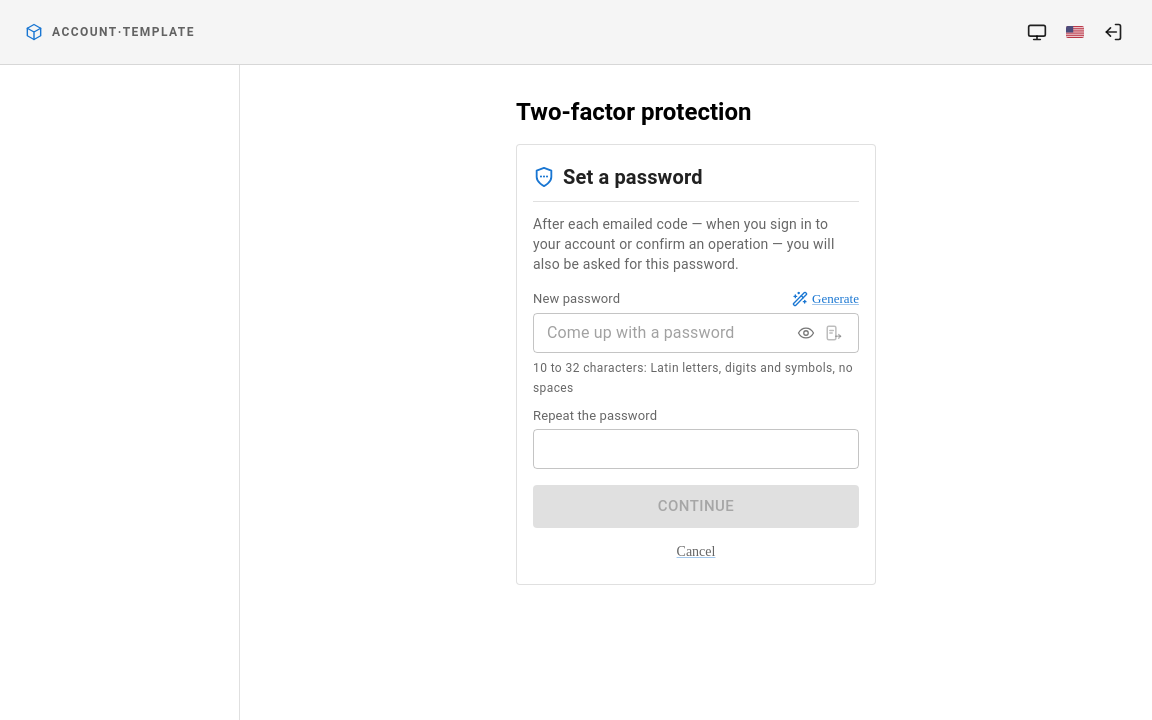
it: PasswordSetupPage › opens the gate from the passing strength up
The width and height of the screenshot is (1152, 720).
Type "L$QI.qA6eu7zG%7w" into the password field with test id "field-new_password". click: (658, 333)
box: [533,313,784,353]
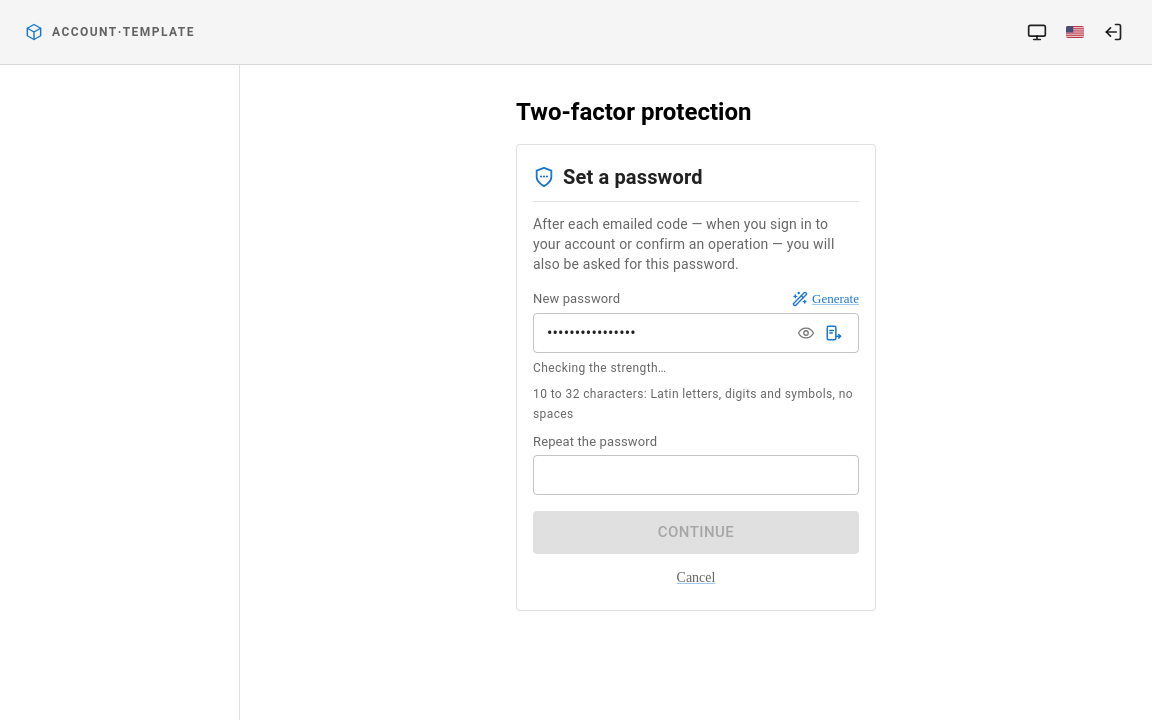
Type "L$QI.qA6eu7zG%7w" into the password field with test id "field-repeat_password". click: (696, 475)
box: [533,455,859,495]
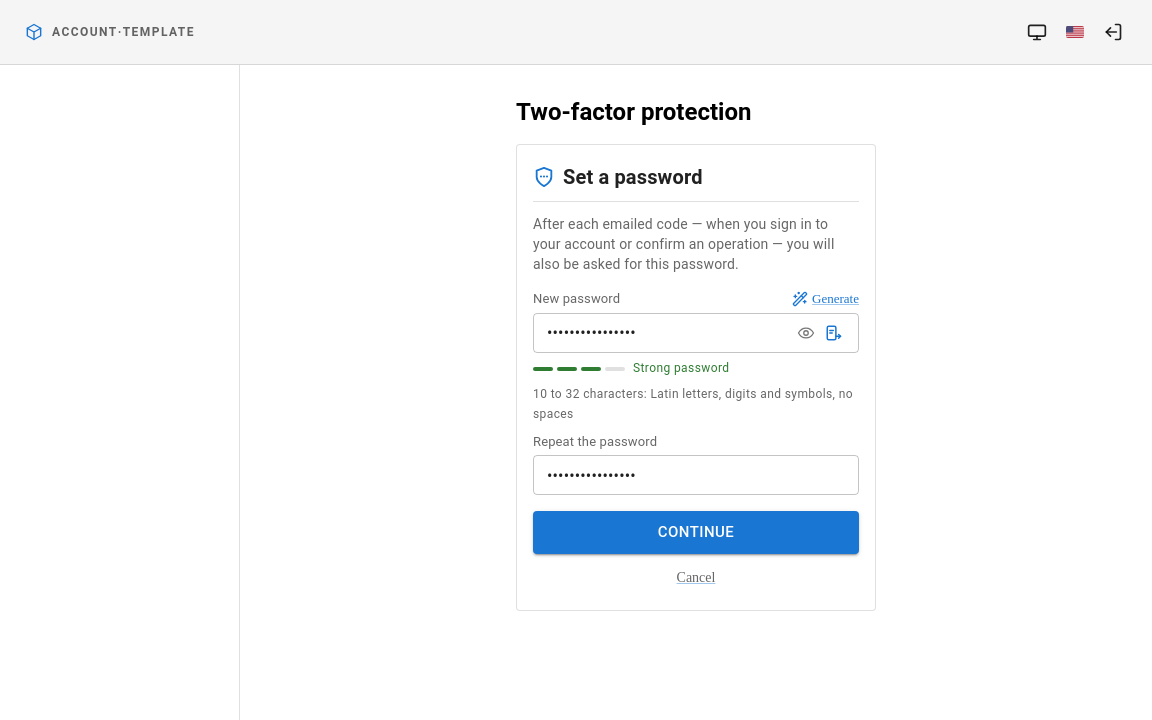
Now the text "Strong password" is shown, box [633,359,729,379]
Now the button "Continue" is enabled, box [533,511,859,554]
